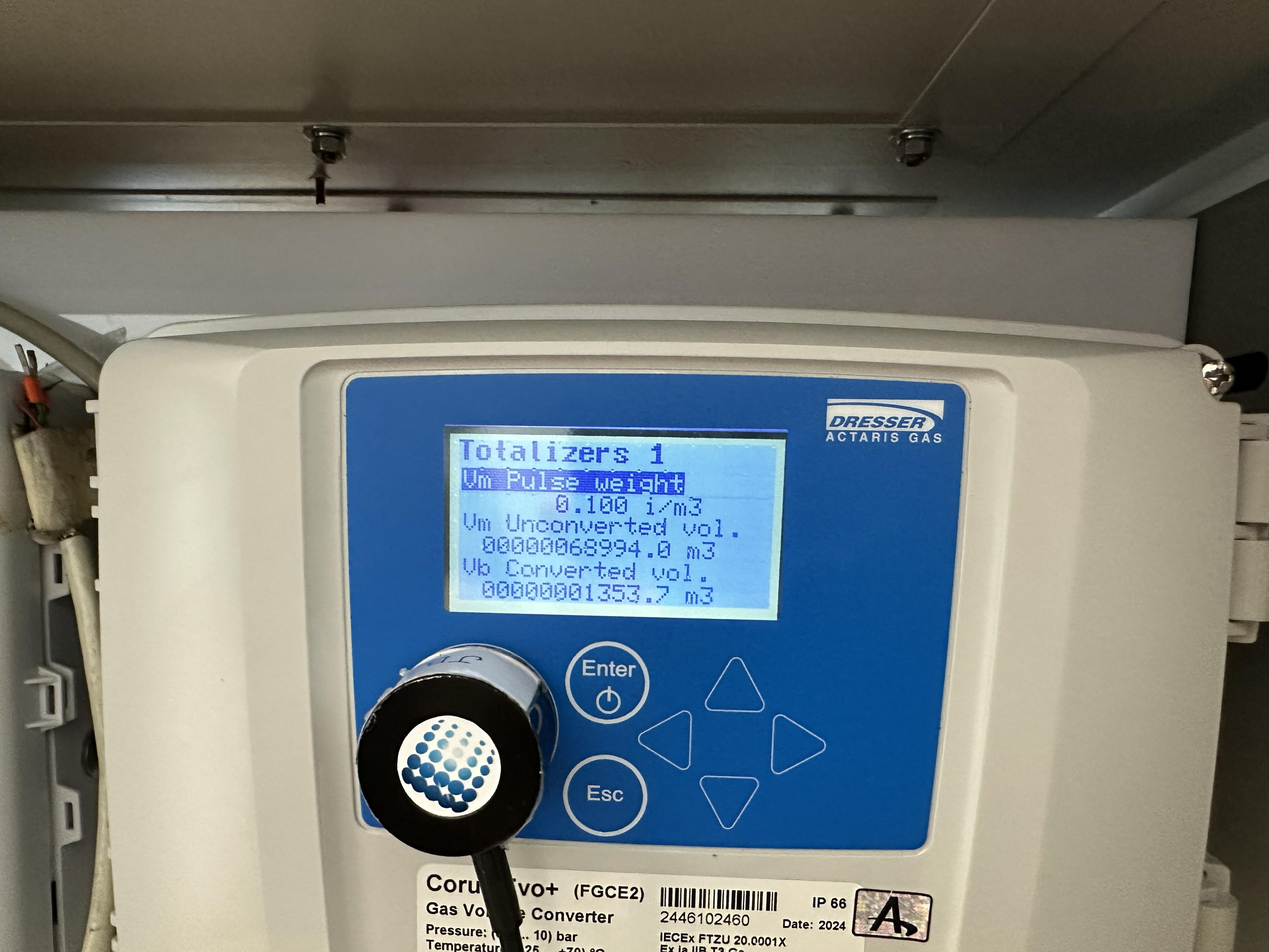digital_screen: (446, 431, 787, 620)
